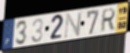2: (48, 14, 66, 43)
3: (15, 19, 29, 47), (31, 17, 44, 43)
7: (86, 9, 100, 35)
N: (63, 11, 83, 40)
R: (99, 7, 117, 34)
